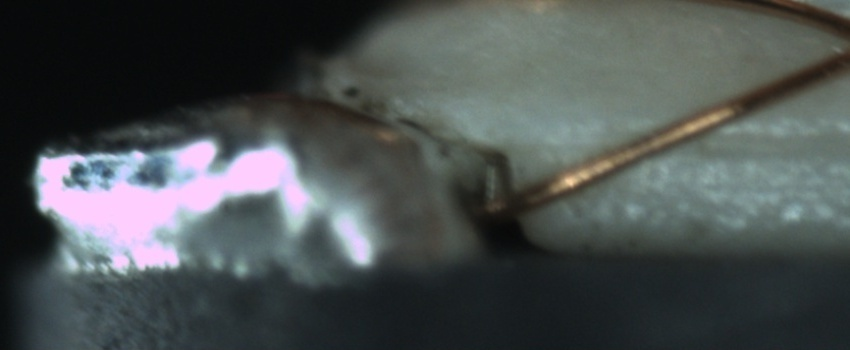DL: (559, 108, 849, 177)
